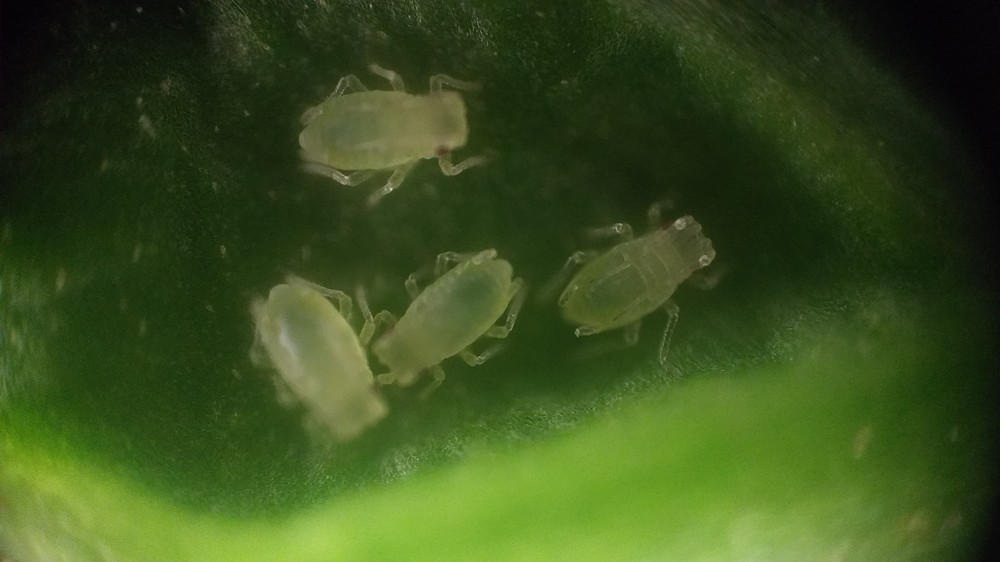Pulgon: (546, 182, 770, 366), (278, 55, 515, 205), (248, 262, 409, 450), (363, 233, 534, 382)
